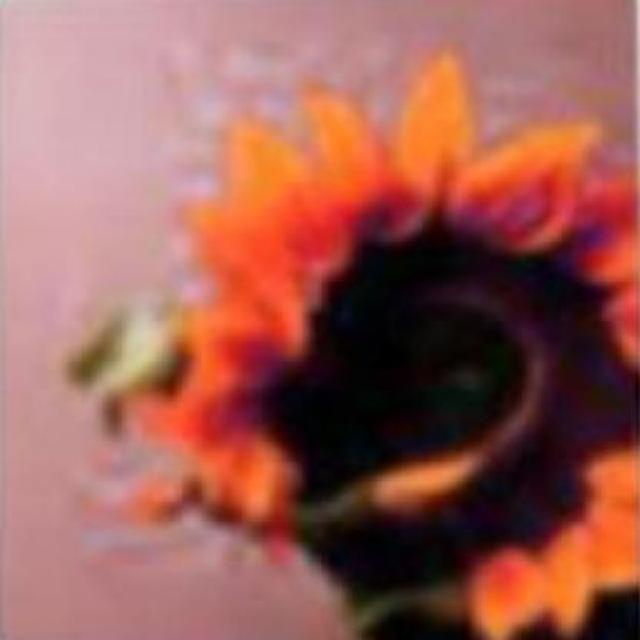sunflower: (121, 49, 640, 640)
